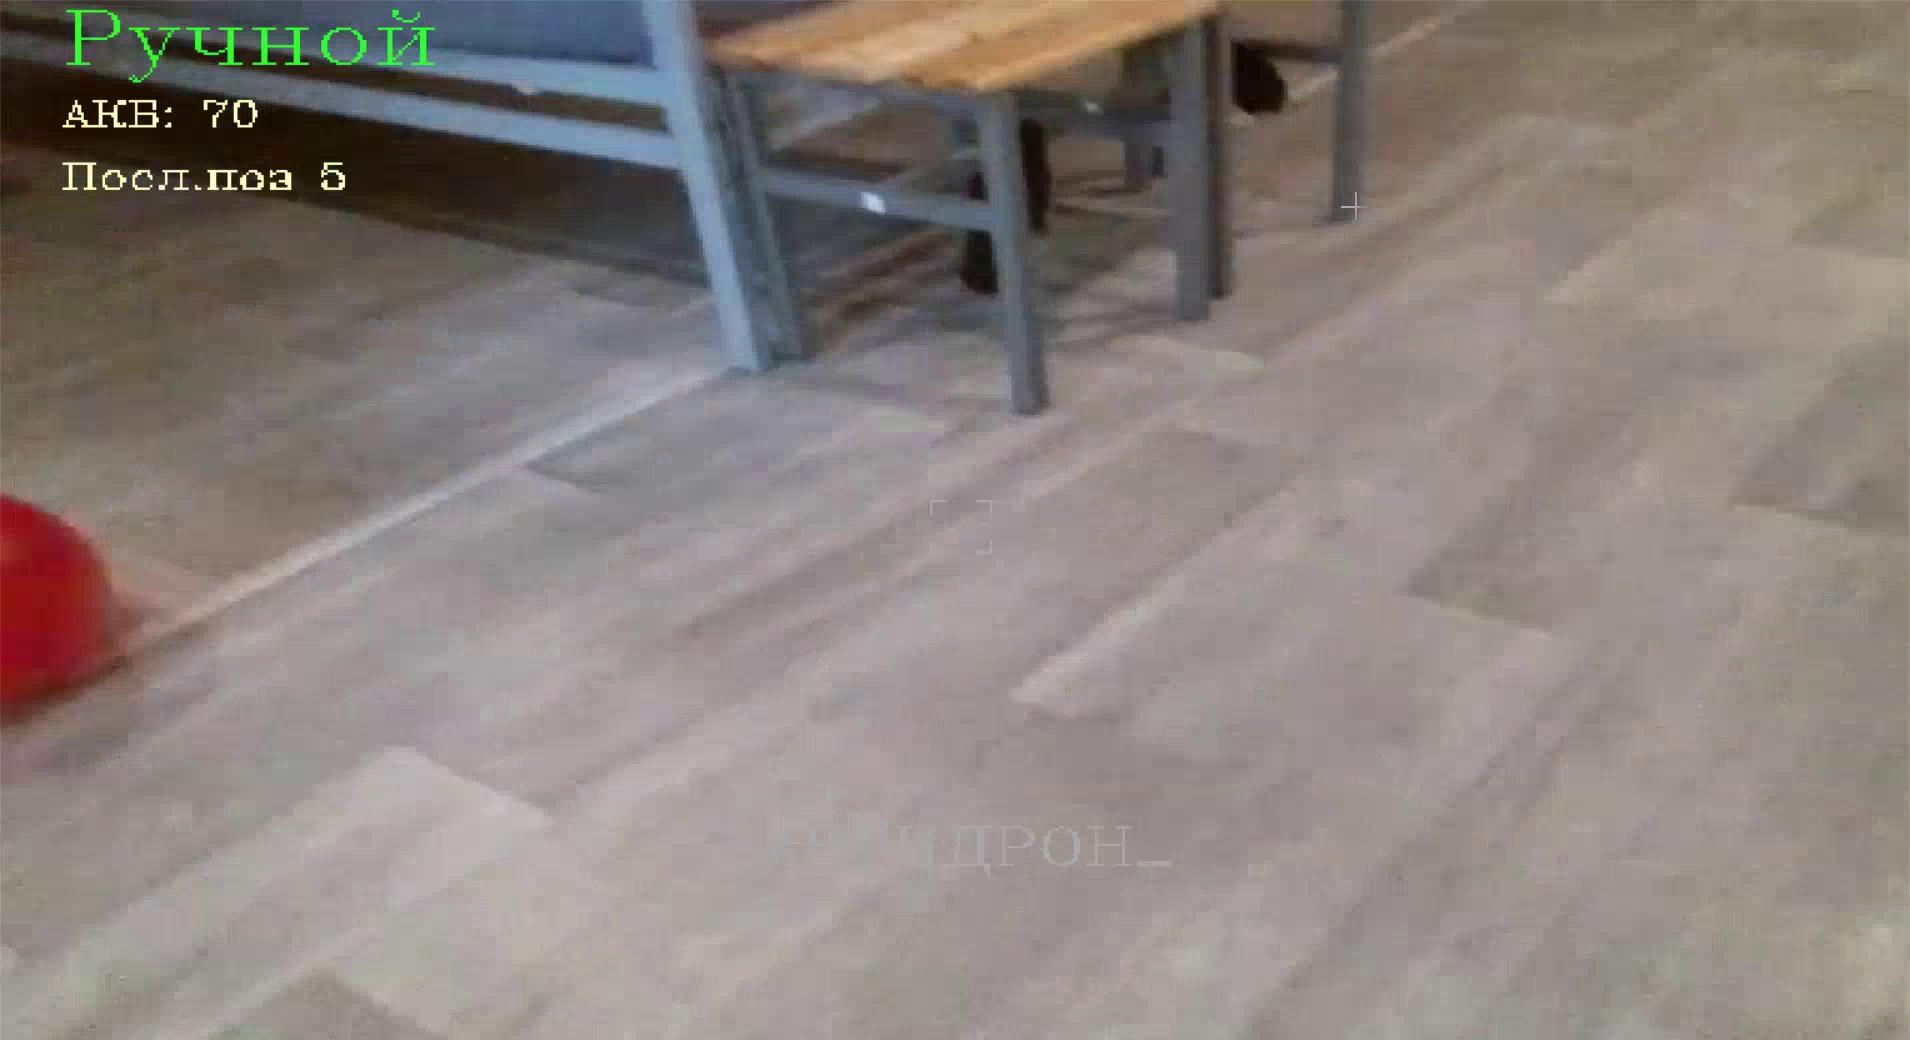red: (0, 478, 137, 722)
